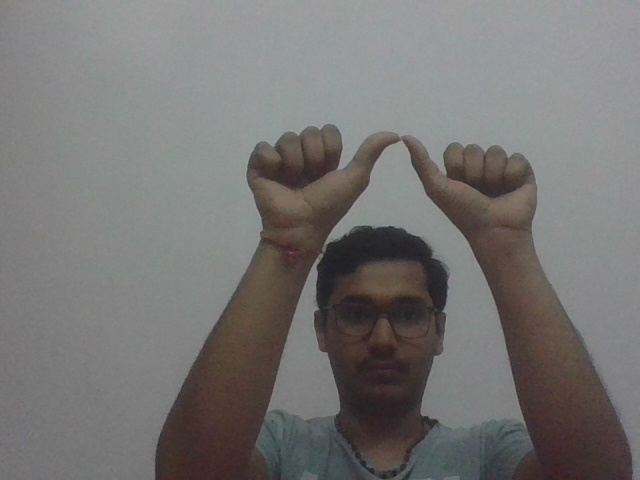A: (236, 122, 549, 234)
